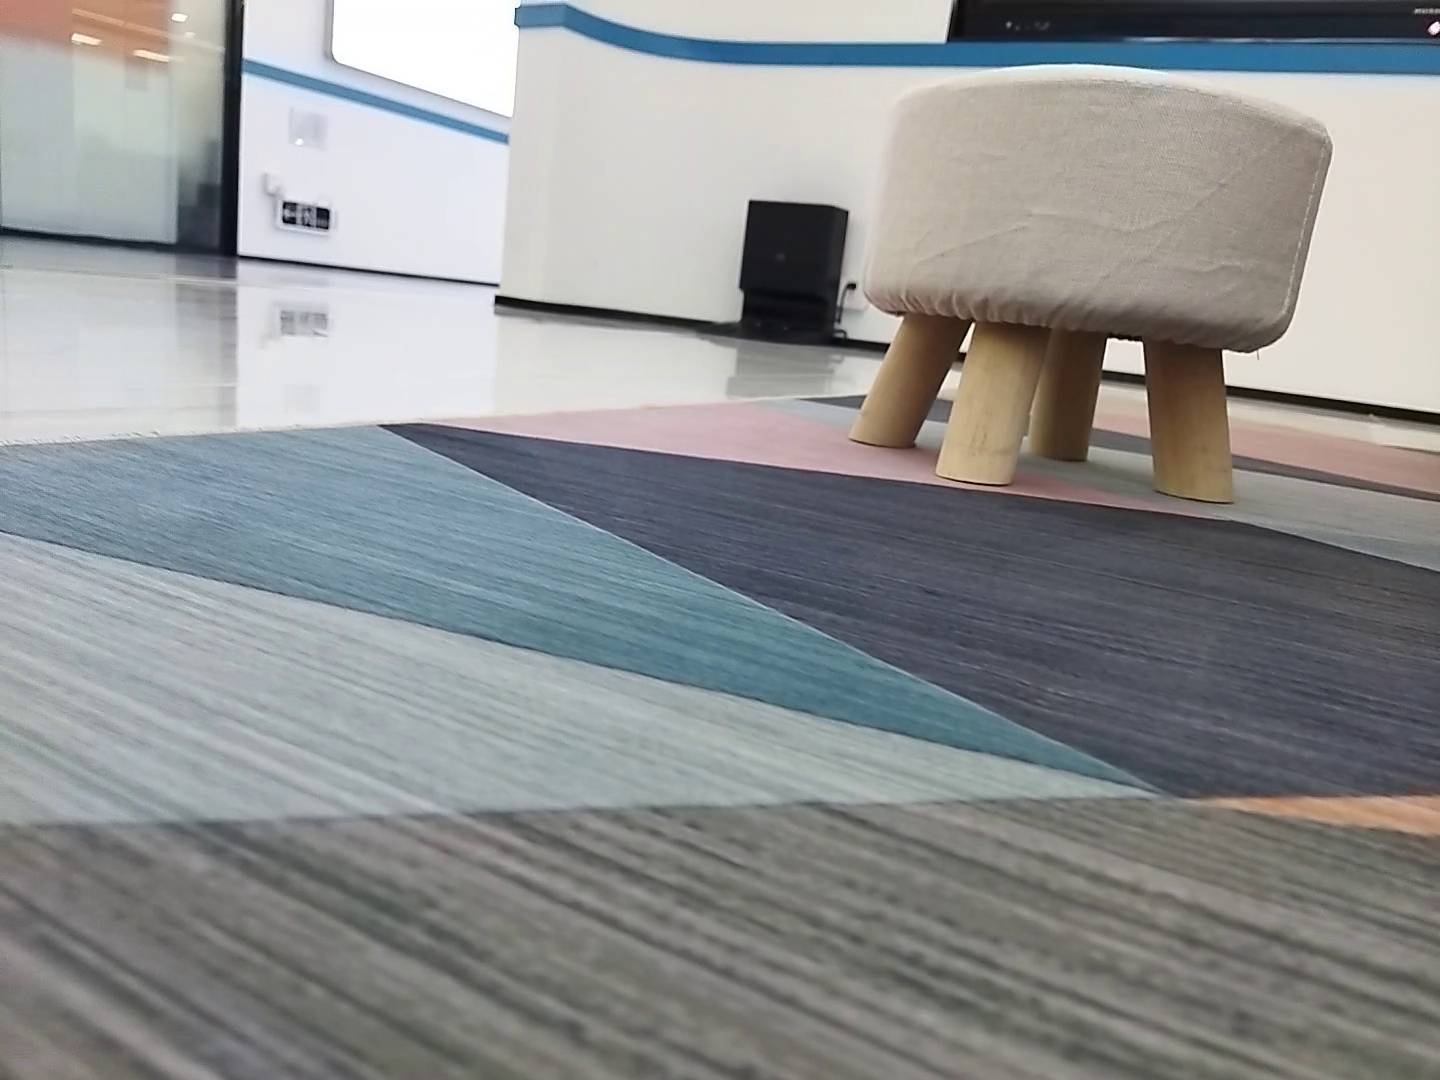dust collecting barrel: (700, 199, 853, 348)
